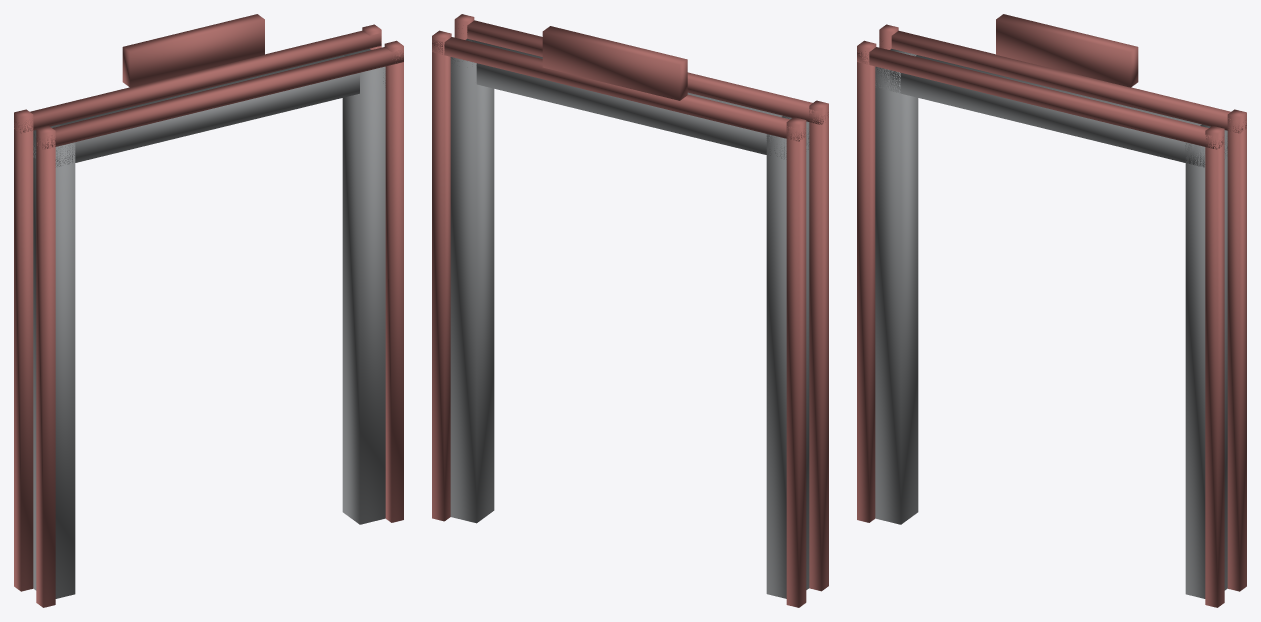
File: doorway_emergency_exit_w152_h220_d16.glb
3 renders of one model, left to right at view 1: azimuth 30°, elevation 25°; view 2: azimuth 150°, elevation 25°; view 3: azimuth 330°, elevation 25°, orthographic.
Visible parts, largest first — view 1: world; view 2: world; view 3: world.
Part boxes in pixels (box(x1,y1,x2,y2)): world: box(14, 14, 403, 607); world: box(432, 14, 828, 607); world: box(857, 14, 1246, 607).
Bounding box in the file's own units: 1.92 × 2.6 × 0.3108.
